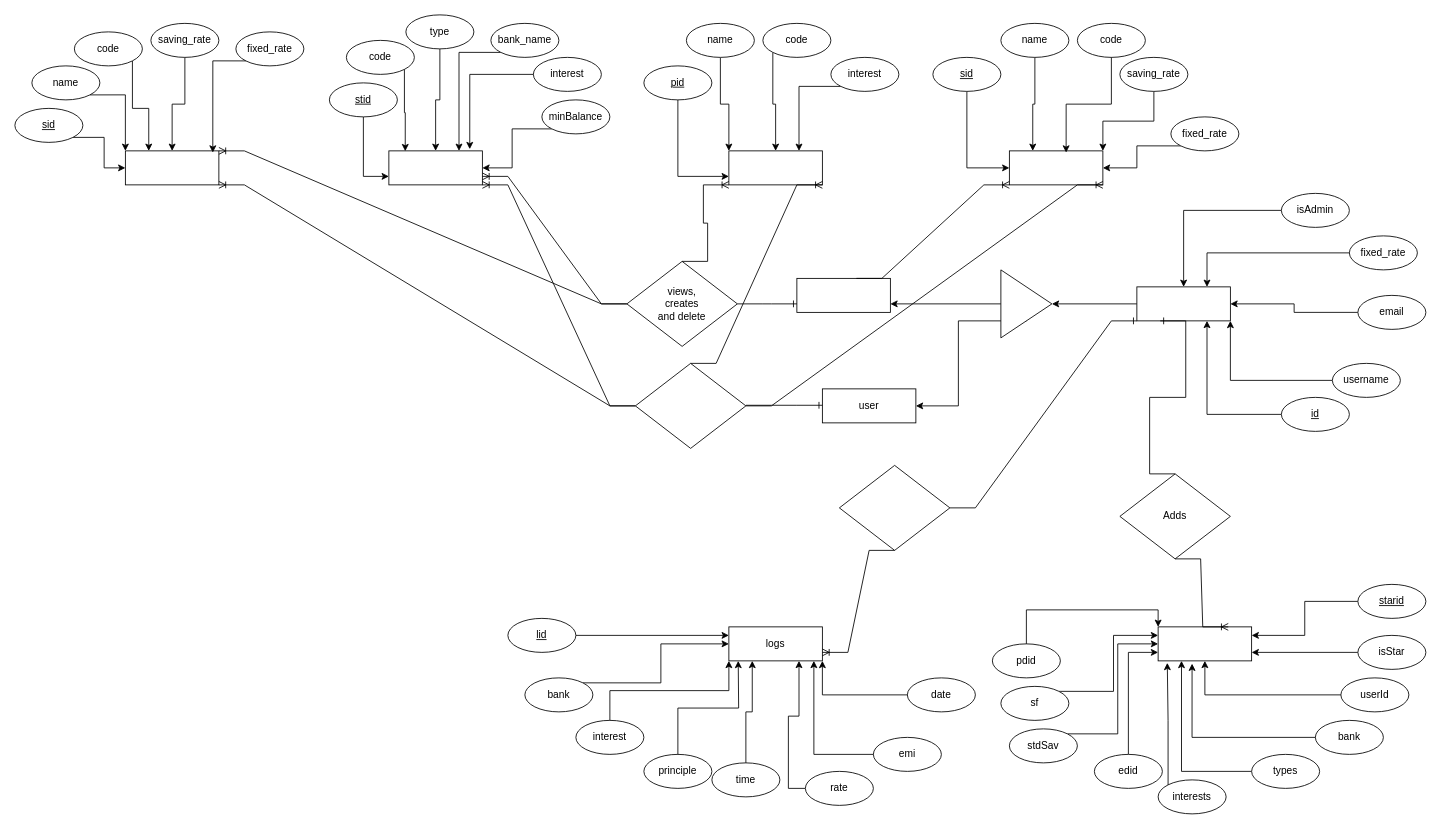
This 1441x829 diagram has some shape labels left out. Each missing label, with the box of its shape:
admin: (796, 278, 890, 312)
create: (839, 465, 950, 550)
education_loan: (1009, 150, 1103, 185)
has: (1000, 269, 1052, 338)
personal_loan: (728, 150, 822, 185)
saving_fixed: (125, 150, 219, 185)
star: (1157, 626, 1252, 661)
student_saving: (388, 150, 482, 185)
users: (1136, 286, 1230, 321)
view: (635, 363, 746, 448)
